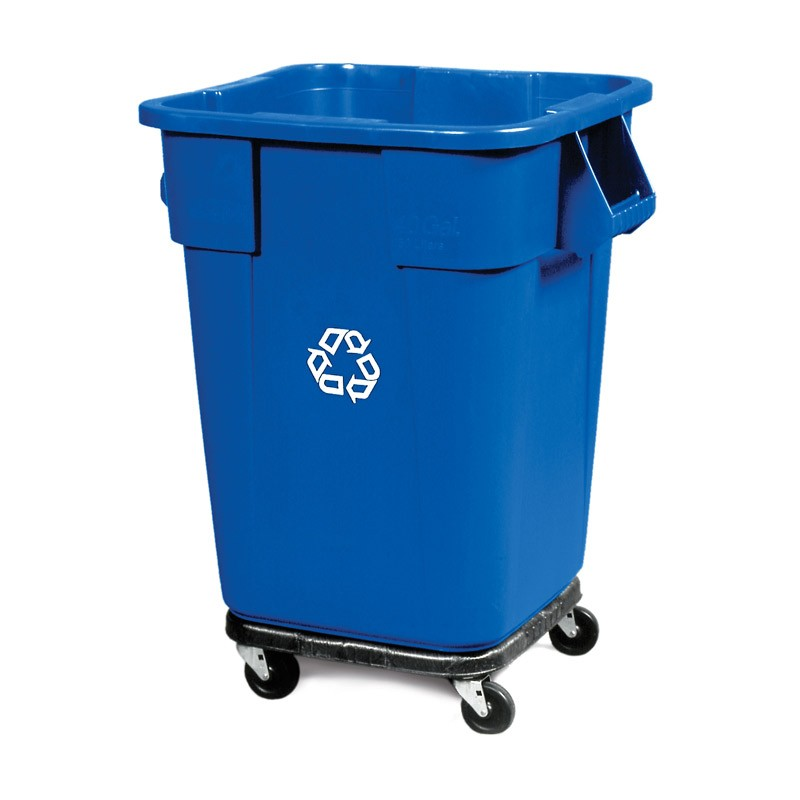Carts: (138, 60, 655, 732)
